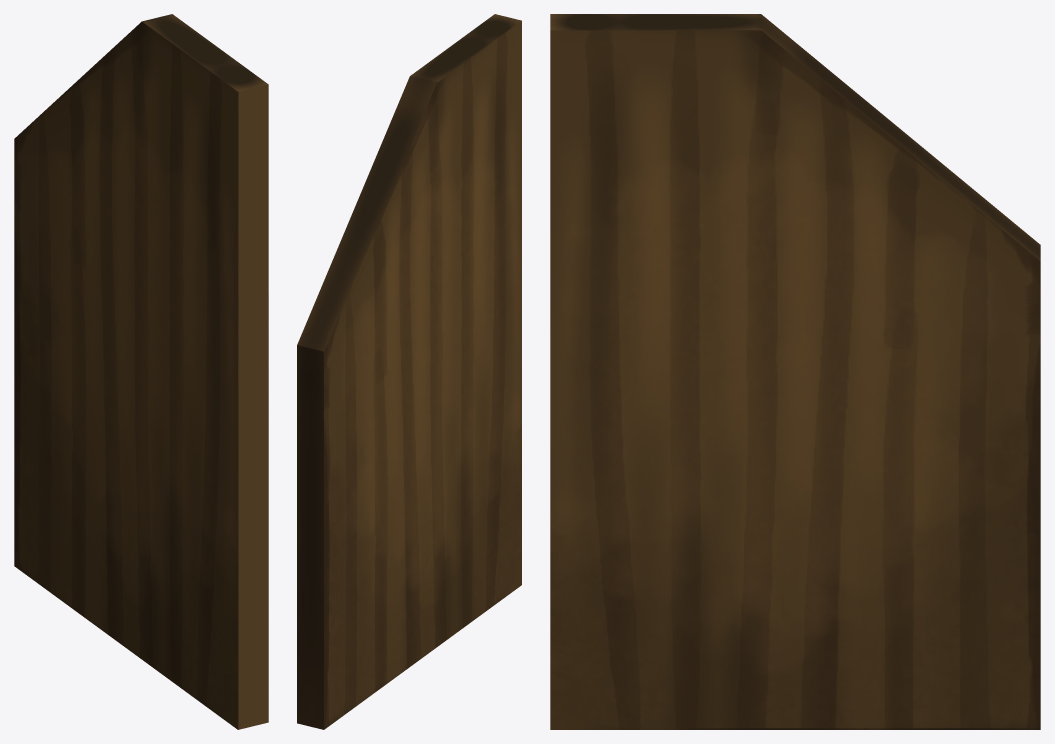
Rendered from puertaRotatoria.obj.
The picture shows the model from 3 angles, left to right: view 1: azimuth 30°, elevation 25°; view 2: azimuth 150°, elevation 25°; view 3: azimuth 270°, elevation 25°; orthographic projection. The views are drawn at different scales.
Parts seen in each view (by area): view 1: Cube.001; view 2: Cube.001; view 3: Cube.001.
Part boxes in pixels (x1,y1,x2,y2): Cube.001: (14,14,268,729); Cube.001: (297,14,521,729); Cube.001: (550,14,1040,729).
Bounding box in the file's own units: 0.4393 × 8.78 × 5.58.
